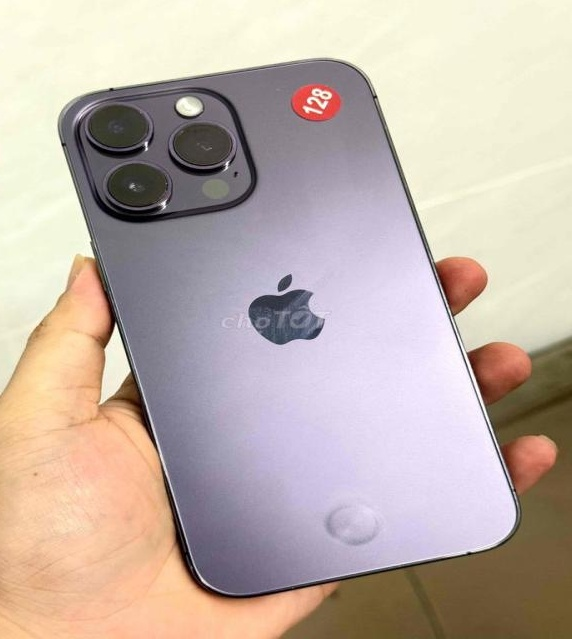physical_damage: (322, 496, 383, 551)
